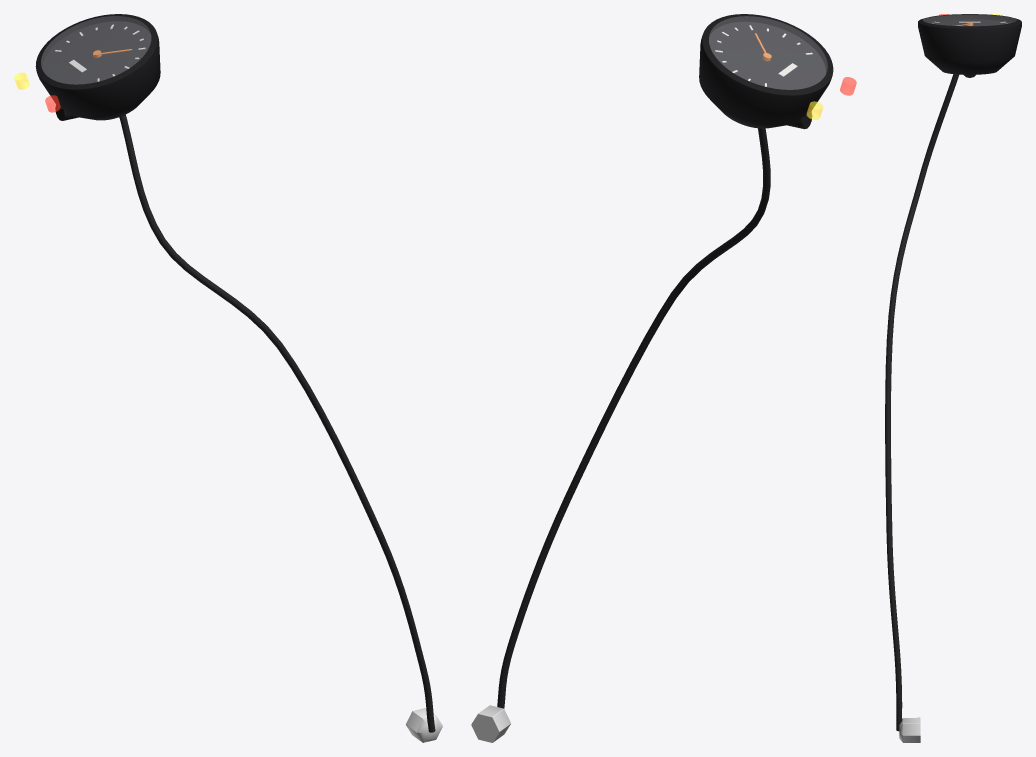
File: bike_boda_boda__instruments.glb
3 renders of one model, left to right at view 1: azimuth 30°, elevation 25°; view 2: azimuth 150°, elevation 25°; view 3: azimuth 270°, elevation 25°, orthographic. The views are drawn at different scales.
Parts seen in each view (by area): view 1: electrical__instruments, electrical__instruments__glass, electrical__instruments__speedo_cable, electrical__instruments__dial, electrical__instruments__speedo_drive; view 2: electrical__instruments, electrical__instruments__glass, electrical__instruments__dial, electrical__instruments__speedo_cable, electrical__instruments__speedo_drive; view 3: electrical__instruments, electrical__instruments__speedo_cable, electrical__instruments__glass, electrical__instruments__speedo_drive, electrical__instruments__dial.
Boxes of the visible parts, x1,y1,x2,y2 form: electrical__instruments: (35, 14, 160, 120); electrical__instruments__glass: (41, 16, 150, 84); electrical__instruments__speedo_cable: (119, 114, 435, 732); electrical__instruments__dial: (42, 21, 151, 84); electrical__instruments__speedo_drive: (406, 708, 442, 742); electrical__instruments: (699, 14, 833, 129); electrical__instruments__glass: (709, 16, 827, 89); electrical__instruments__dial: (709, 21, 825, 89); electrical__instruments__speedo_cable: (497, 128, 770, 708); electrical__instruments__speedo_drive: (471, 705, 510, 742); electrical__instruments: (918, 14, 1021, 77); electrical__instruments__speedo_cable: (885, 74, 958, 731); electrical__instruments__glass: (923, 14, 1016, 25); electrical__instruments__speedo_drive: (899, 717, 920, 742); electrical__instruments__dial: (928, 19, 1011, 26).
Bounding box in the file's own units: 35.97 × 69.2 × 13.94.
